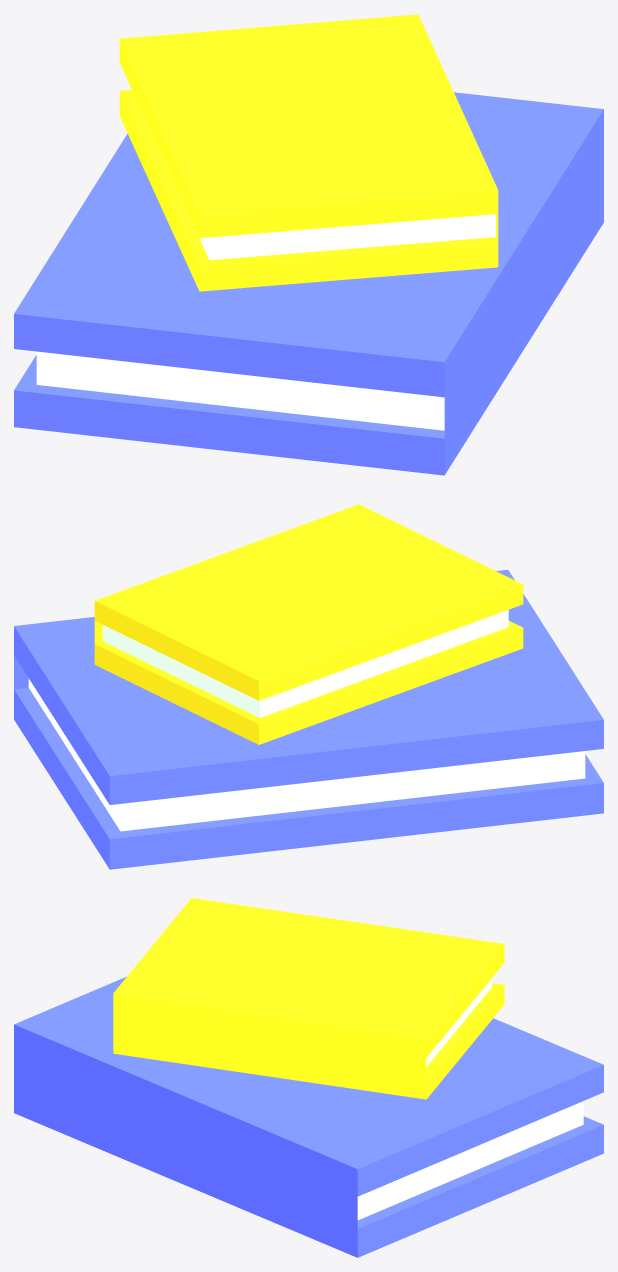
File: Book.fbx
3 renders of one model, top to bottom at view 1: azimuth 30°, elevation 25°; view 2: azimuth 150°, elevation 25°; view 3: azimuth 270°, elevation 25°, orthographic. The views are drawn at different scales.
Visible parts, largest first — view 1: Cube_3; view 2: Cube_3; view 3: Cube_3.
Part boxes in pixels (box(x1,y1,x2,y2)): Cube_3: box(14, 14, 603, 475); Cube_3: box(14, 504, 603, 869); Cube_3: box(14, 898, 603, 1257).
Bounding box in the file's own units: 109 × 33.68 × 109.
